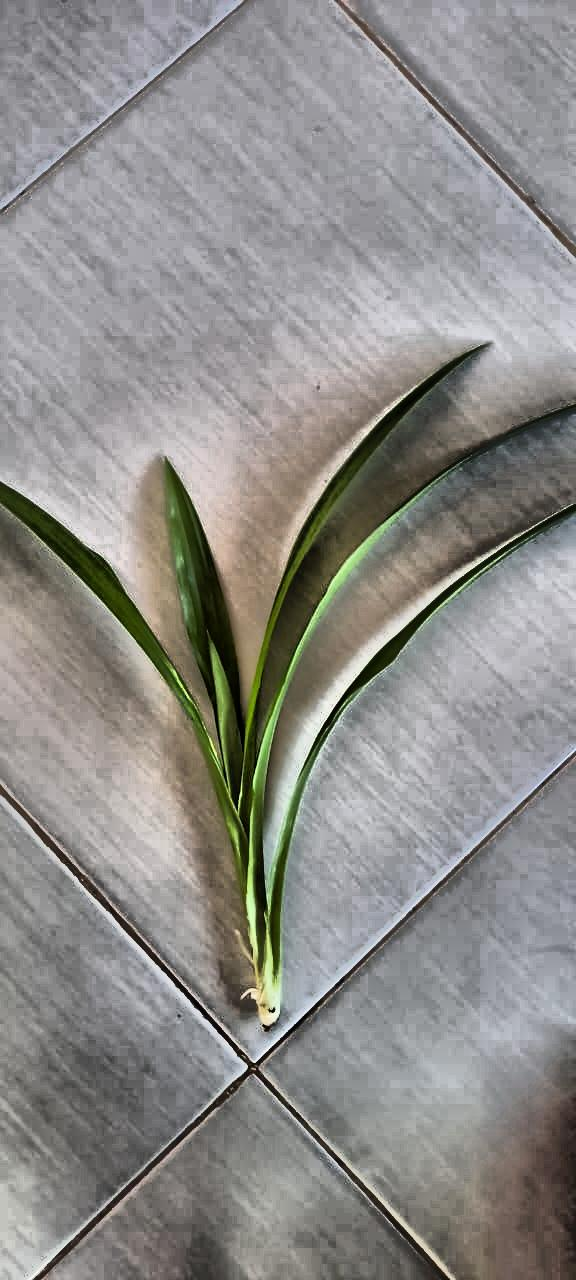daun pandan: (0, 348, 575, 1029)
